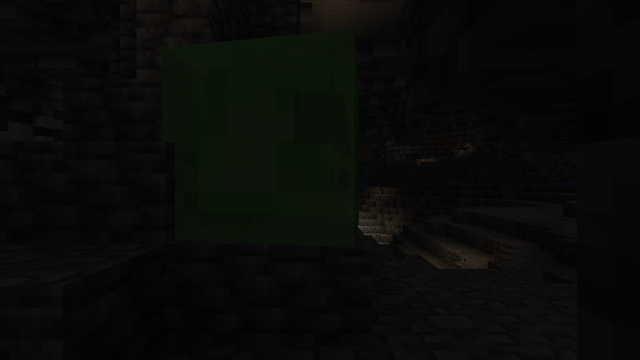slimes: (159, 27, 376, 244)
